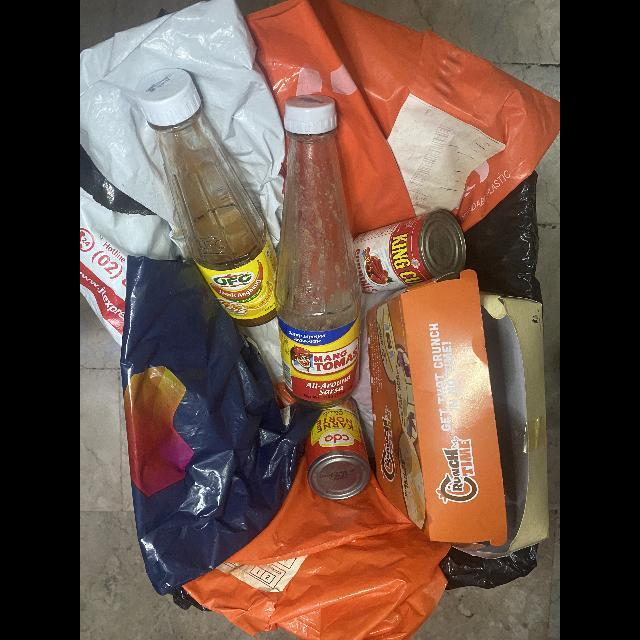glass: (134, 68, 277, 327), (276, 95, 361, 405)
metal: (353, 210, 466, 294), (305, 397, 371, 501)
paper: (366, 270, 549, 561)
plastic: (246, 0, 560, 237), (80, 0, 285, 347), (123, 256, 324, 598), (182, 460, 451, 640)
